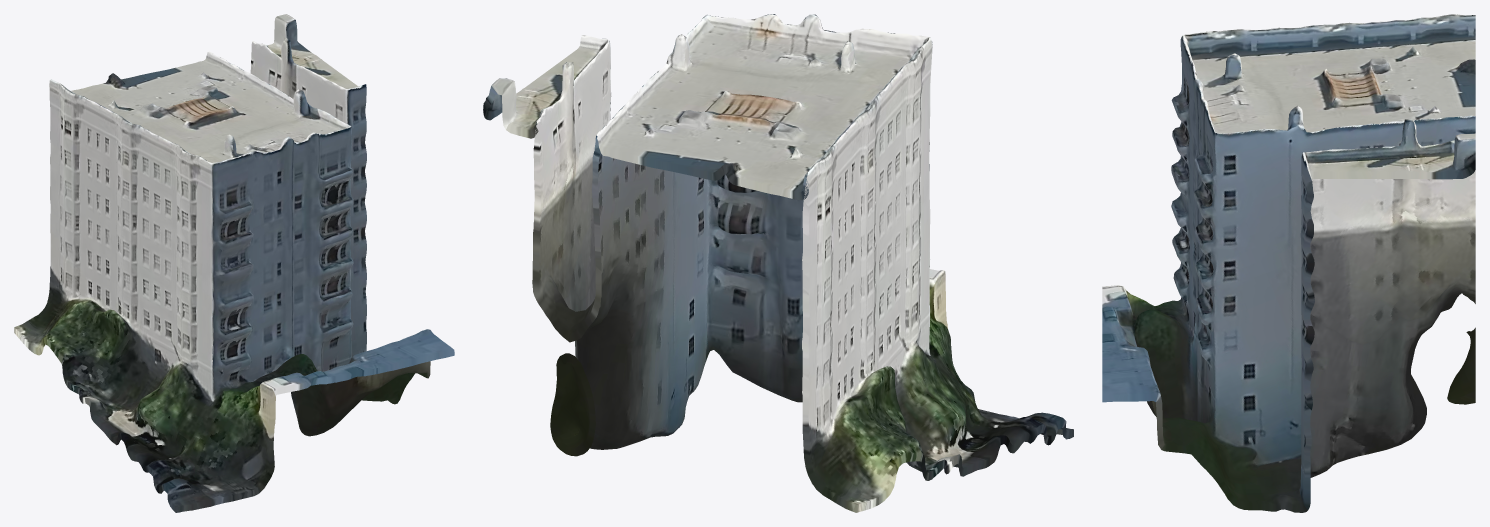
File: z20-167721-405198-h0-yup-uvflip-v3-world.glb
3 renders of one model, left to right at view 1: azimuth 30°, elevation 25°; view 2: azimuth 150°, elevation 25°; view 3: azimuth 270°, elevation 25°, orthographic. The views are drawn at different scales.
Bounding box in the file's own units: 30.2 × 33.6 × 30.32.
Materials: 1 (1 with a texture image).
